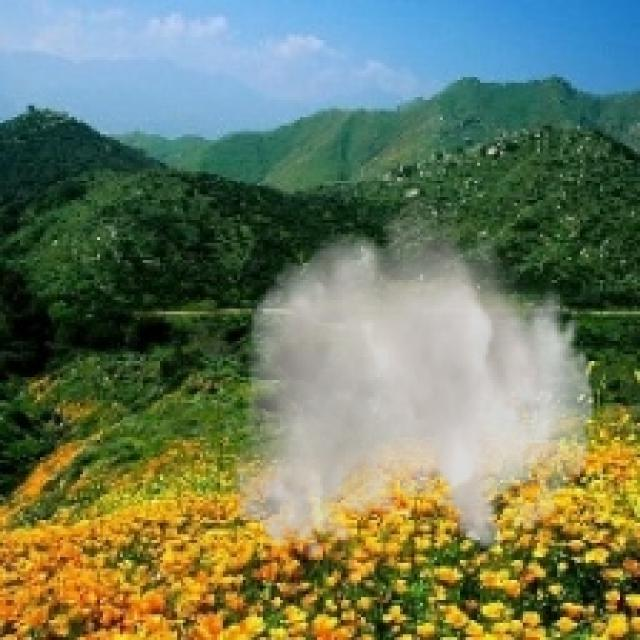Smoke: (232, 185, 594, 560)
